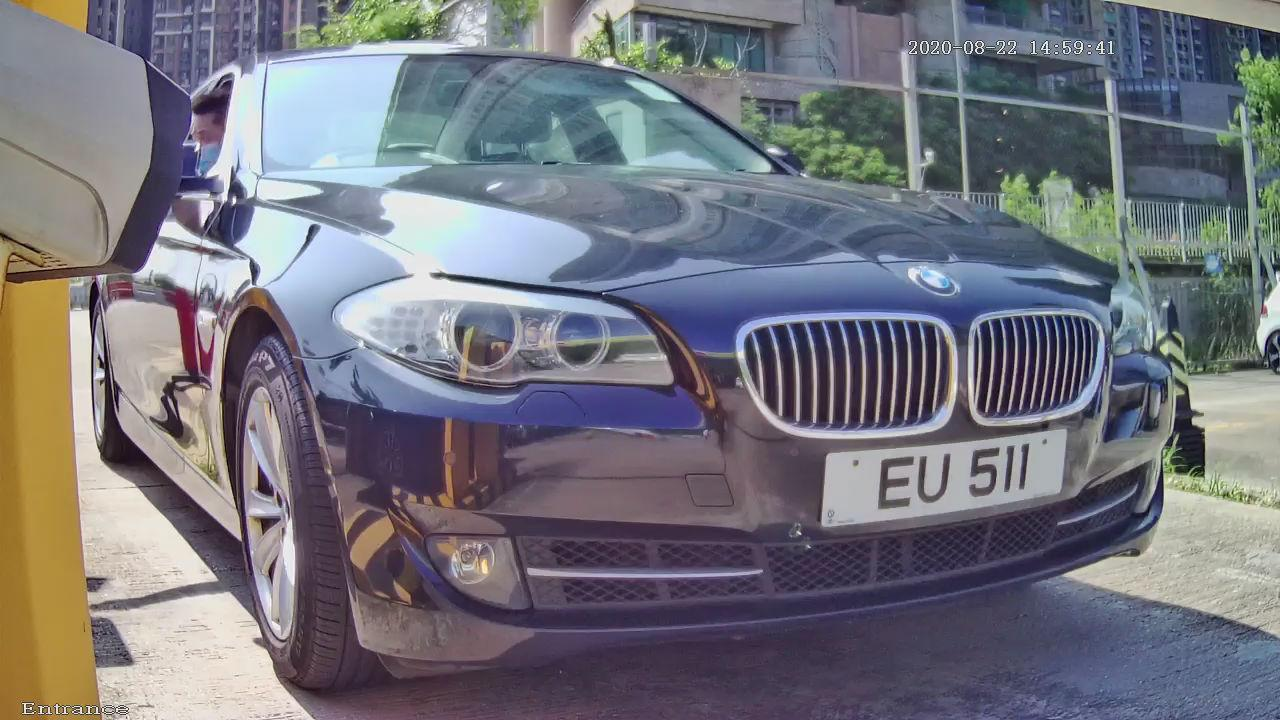Car: (35, 17, 1246, 714)
License Plate: (770, 399, 1106, 571)
